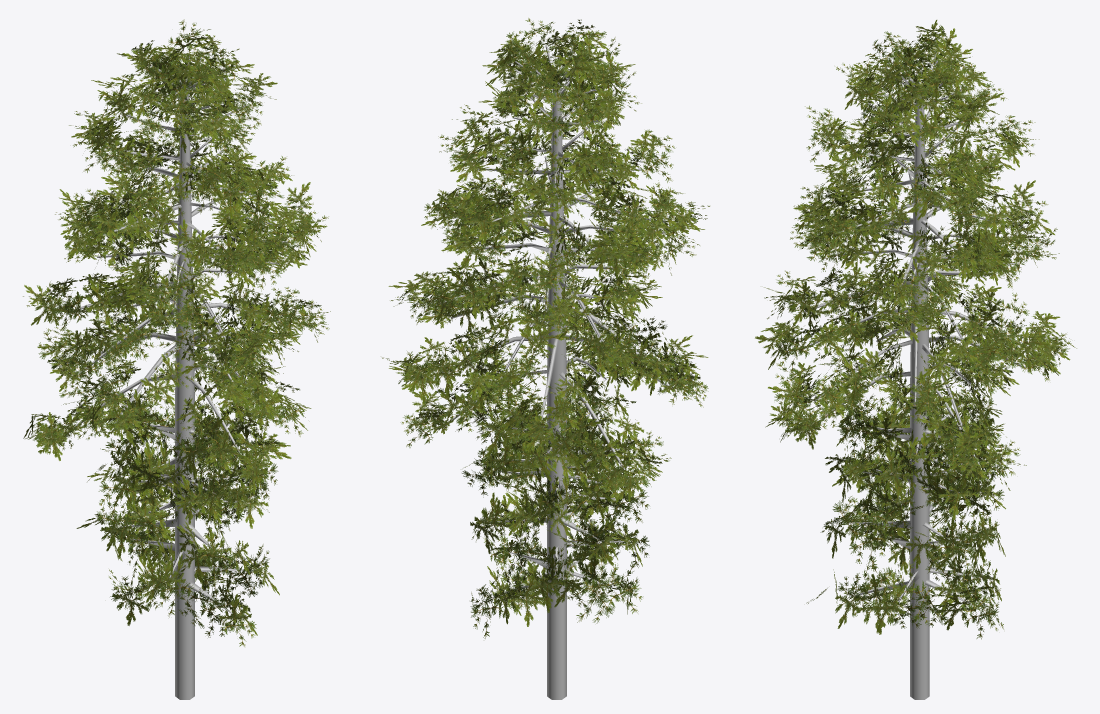
The model's file is Lodgepole_Pine_Model_0.obj.
3 views of the same model, side by side, from view 1: azimuth 30°, elevation 25°; view 2: azimuth 150°, elevation 25°; view 3: azimuth 270°, elevation 25° (orthographic).
Parts seen in each view (by area): view 1: Foliage__leafcard, Bark; view 2: Foliage__leafcard, Bark; view 3: Foliage__leafcard, Bark.
Part boxes in pixels (bbox=[...]): Foliage__leafcard: bbox=[23, 19, 330, 646]; Bark: bbox=[60, 54, 292, 699]; Foliage__leafcard: bbox=[382, 18, 709, 638]; Bark: bbox=[433, 46, 672, 699]; Foliage__leafcard: bbox=[755, 20, 1076, 639]; Bark: bbox=[800, 52, 1036, 699].
Size of the model in its own units: 18.91 by 40 by 18.39.
